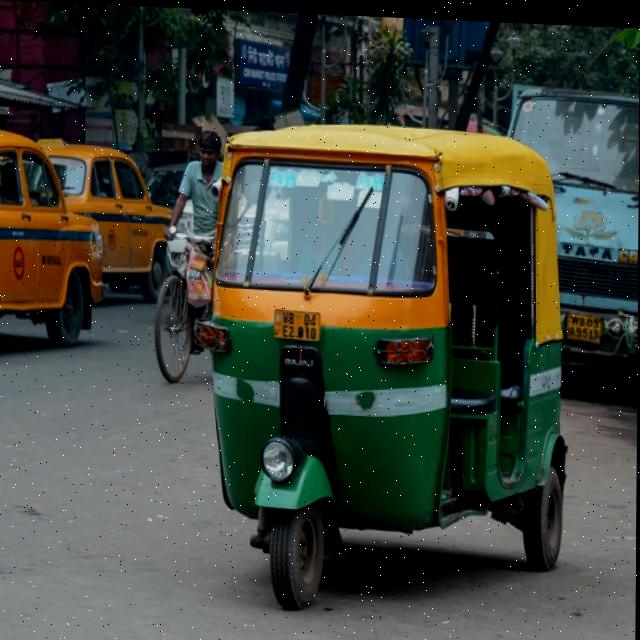plate: (271, 303, 323, 343), (565, 307, 604, 341)
